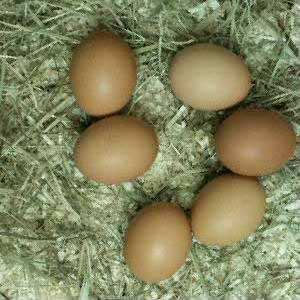egg: (168, 42, 254, 112), (72, 116, 159, 185), (213, 107, 296, 177), (69, 32, 137, 116), (191, 174, 266, 246), (123, 203, 191, 282)
